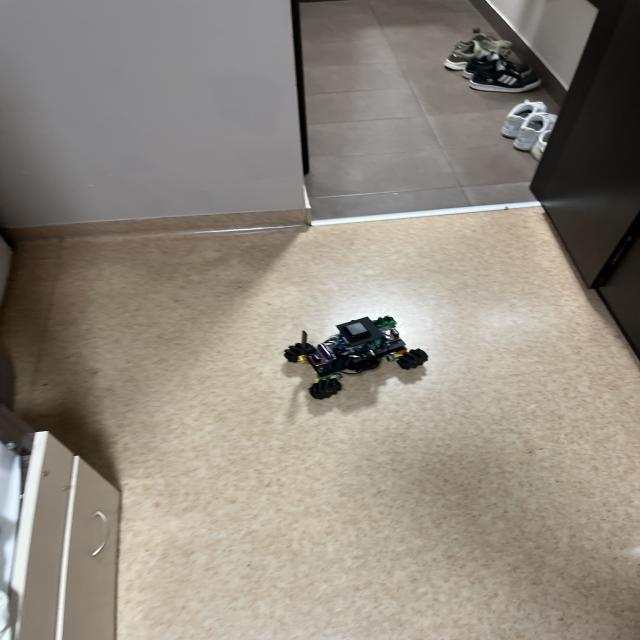robot: (284, 316, 429, 400)
